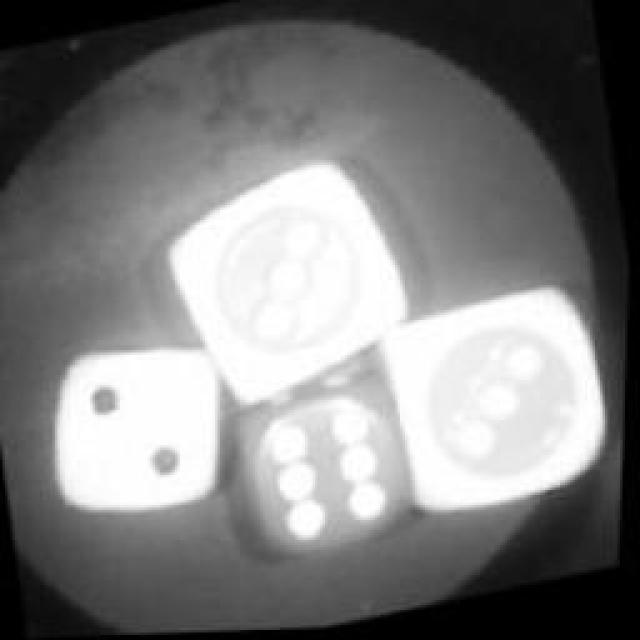dice_2: (34, 315, 256, 545)
dice_3: (154, 140, 431, 412), (372, 272, 630, 530)
dice_6: (221, 368, 434, 580)
